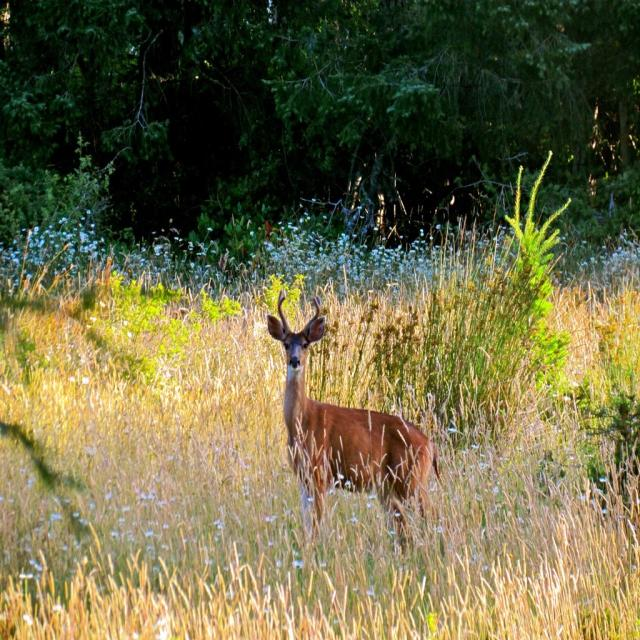Deer: (266, 287, 440, 545)
